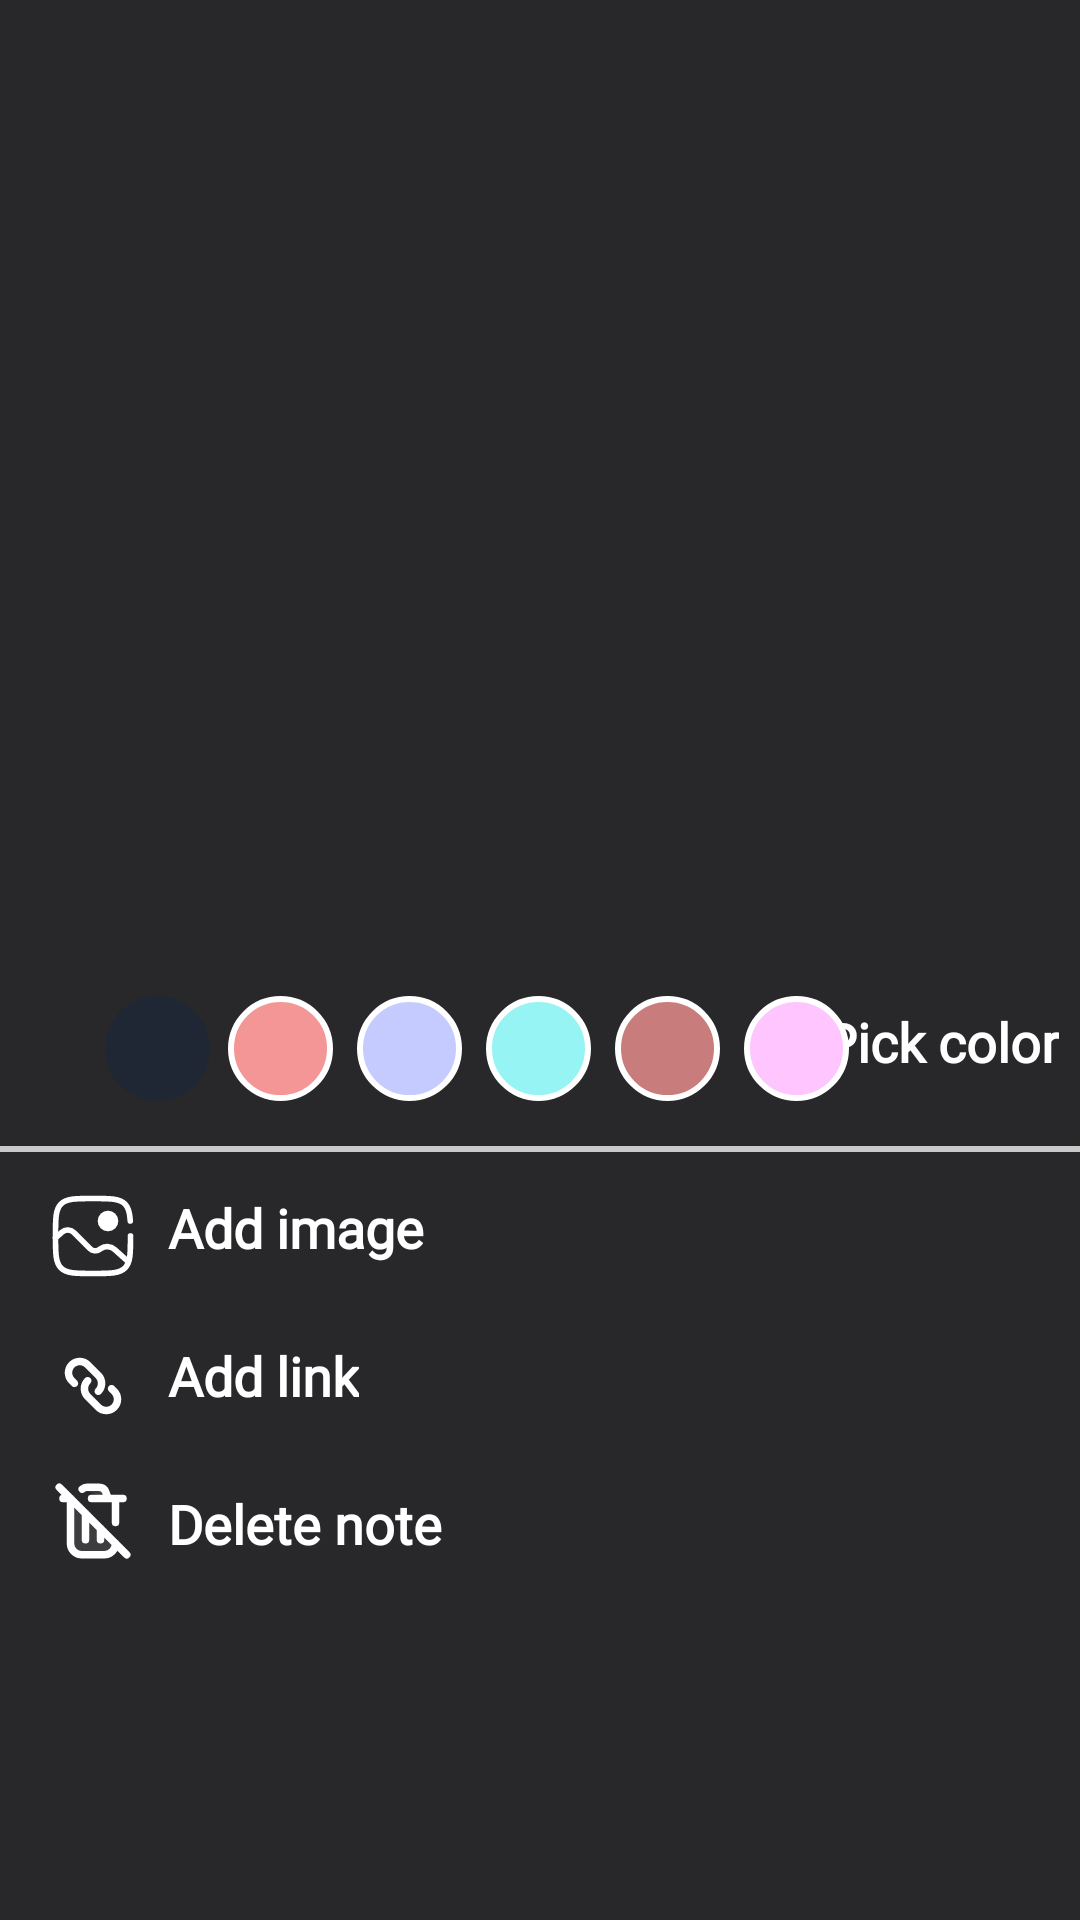

Locate icon controls on the screen. Image size 1080px×1920px, boxes as [x1,y1,x2,y2].
gallery: [52,1195,134,1277]
trash: [55,1483,131,1559]
